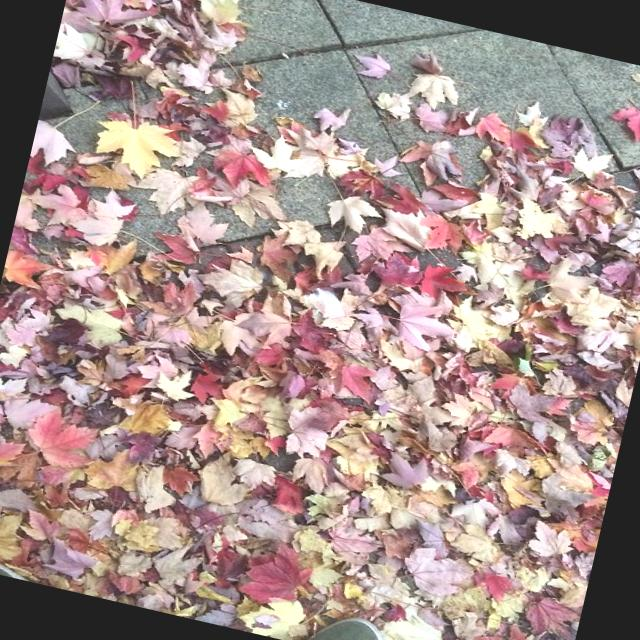Trash: (302, 283, 356, 326)
